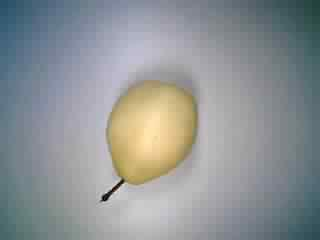pear: (82, 72, 210, 206)
